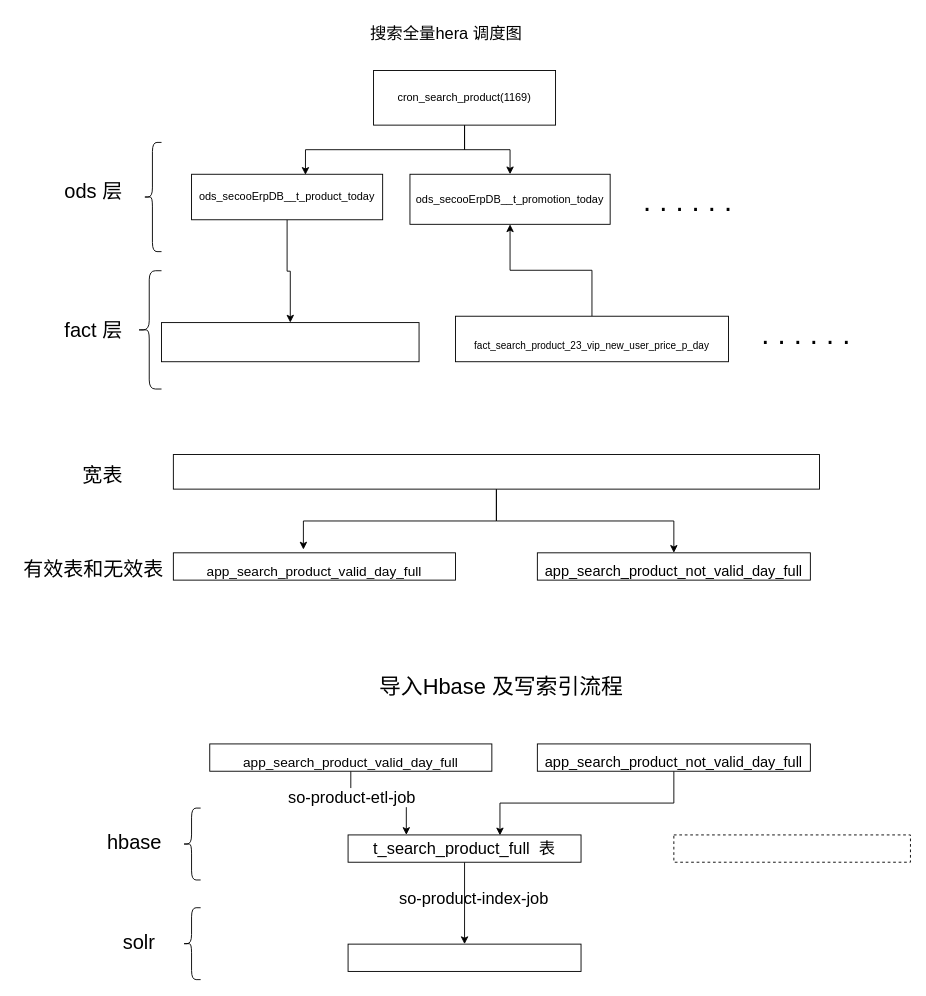
Some shapes in this 926 by 996 pixel diagram are drawn without their labels. Here are the shapes that lost their labels. From the top down, the centre of each, then its label:
At pixel 290 342: "fact_search_product_00_product_p_day".
At pixel 495 471: "fact_search_product_wide_p_day".
At pixel 791 848: "t_search_product_for_uat_test".
At pixel 464 957: "search_product 索引".
